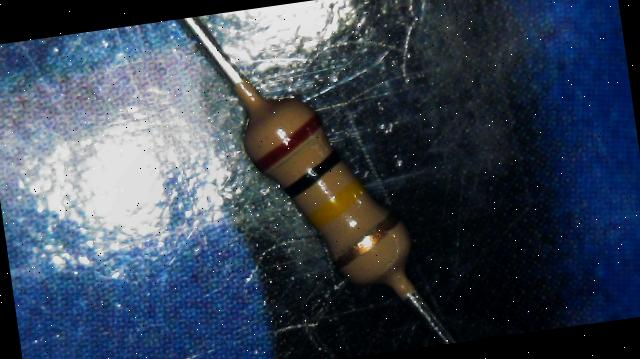black: (279, 149, 345, 197)
brown: (242, 110, 327, 174)
gold: (330, 215, 400, 267)
resistor: (192, 59, 447, 328)
yellow: (304, 177, 368, 228)
